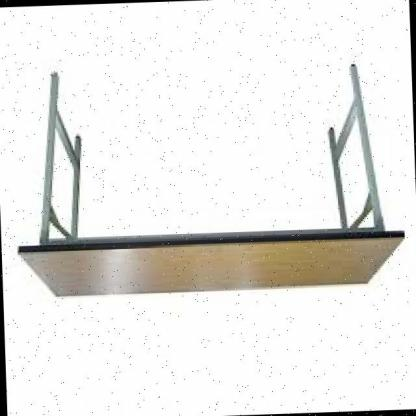Table: (6, 58, 407, 303)
